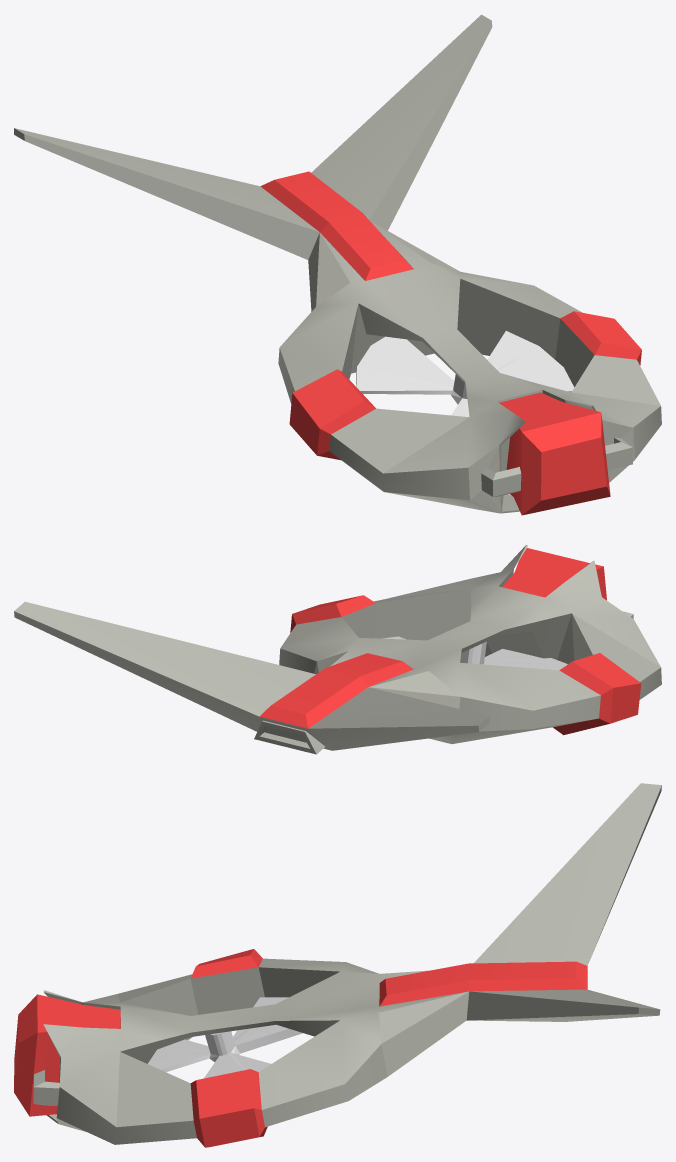
The model's file is LightExplosiveDrone.FBX.
3 views of the same model, one above another, from view 1: azimuth 30°, elevation 25°; view 2: azimuth 150°, elevation 25°; view 3: azimuth 270°, elevation 25° (orthographic).
Parts seen in each view (by area): view 1: LightEplosiveDrone, LED-Propeller; view 2: LightEplosiveDrone, LED-Propeller; view 3: LightEplosiveDrone, LED-Propeller.
Part boxes in pixels (x1,y1,x2,y2): LightEplosiveDrone: (14, 14, 661, 515); LED-Propeller: (356, 331, 574, 417); LightEplosiveDrone: (14, 544, 661, 754); LED-Propeller: (382, 636, 567, 670); LightEplosiveDrone: (14, 783, 661, 1147); LED-Propeller: (148, 997, 302, 1078).
Size of the model in its own units: 230 by 105 by 280.
